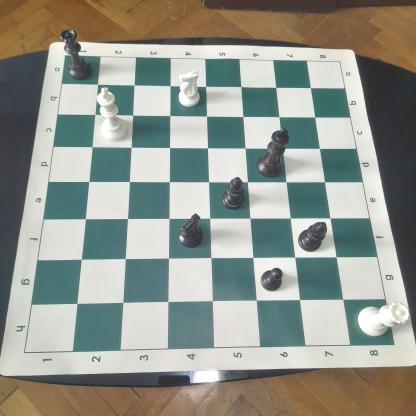black-bishop: (296, 217, 330, 256), (220, 174, 249, 214)
black-king: (254, 124, 291, 182)
black-knight: (177, 211, 211, 250)
black-pawn: (258, 265, 288, 292)
black-queen: (58, 25, 96, 81)
white-king: (94, 85, 131, 144)
white-knight: (176, 68, 206, 109)
white-queen: (357, 297, 411, 341)
